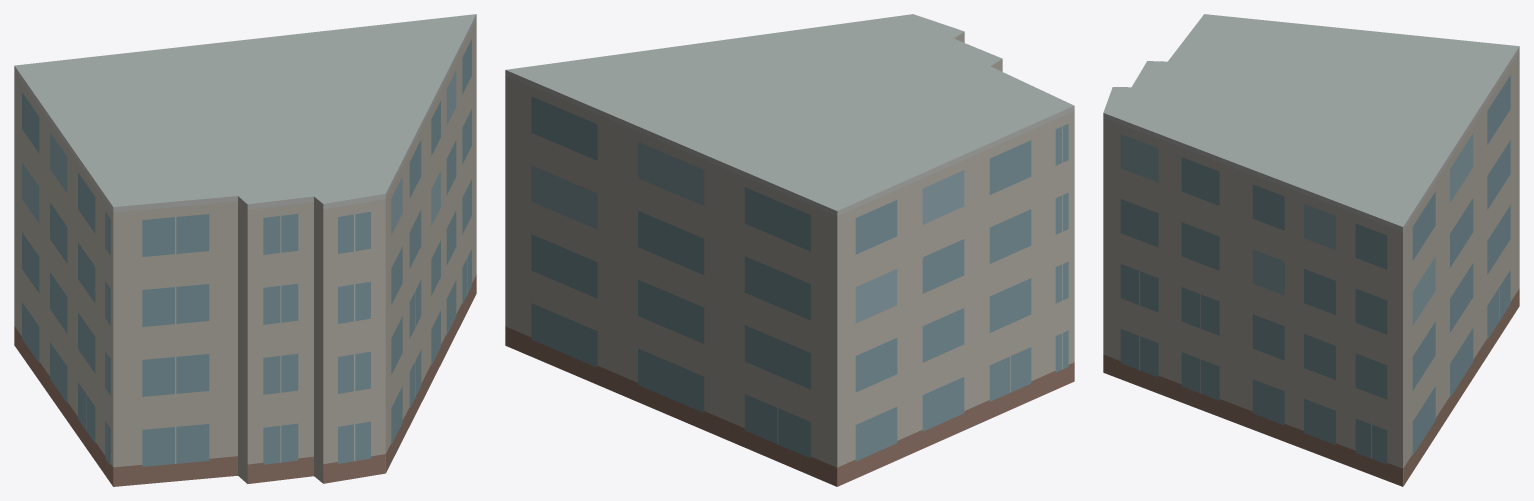
The model's file is survey-upis-32940850.glb.
3 views of the same model, side by side, from view 1: azimuth 30°, elevation 25°; view 2: azimuth 150°, elevation 25°; view 3: azimuth 270°, elevation 25° (orthographic). The views are drawn at different scales.
Visible parts, largest first — view 1: survey-upis-32940850.tmp; view 2: survey-upis-32940850.tmp; view 3: survey-upis-32940850.tmp.
Boxes of the visible parts, bbox=[...] form: survey-upis-32940850.tmp: bbox=[14, 14, 476, 486]; survey-upis-32940850.tmp: bbox=[505, 14, 1074, 486]; survey-upis-32940850.tmp: bbox=[1103, 14, 1519, 486].
Size of the model in its own units: 22.53 by 12.8 by 18.6.
